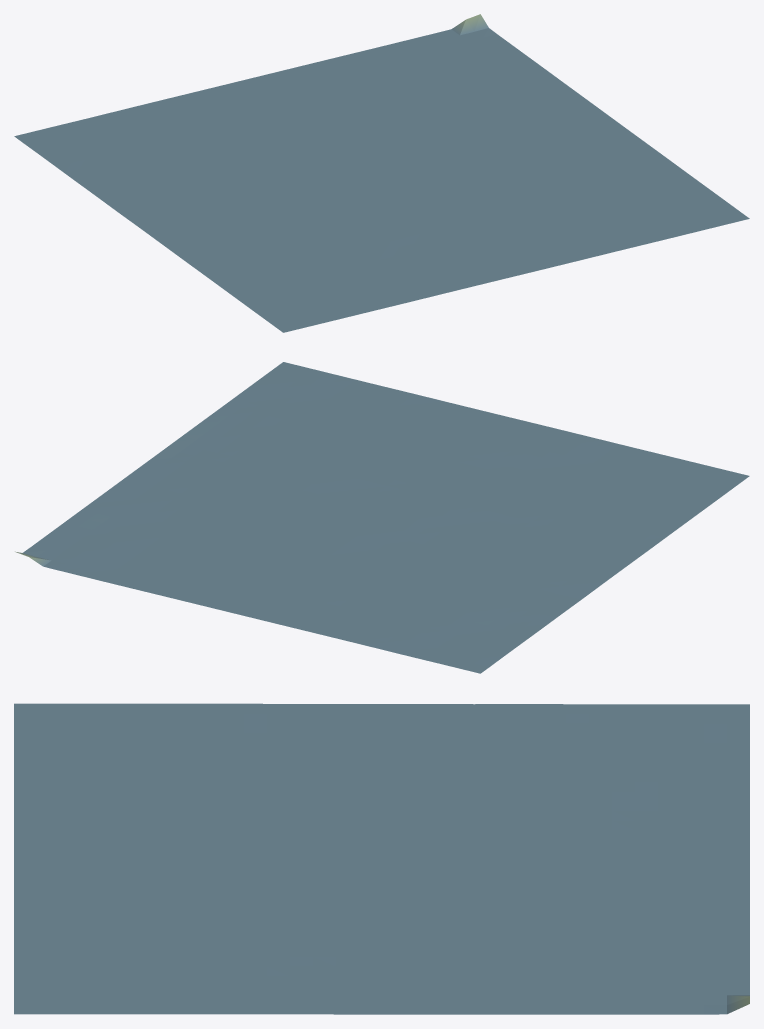
Rendered from tile_8_3.glb.
The picture shows the model from 3 angles, top to bottom: view 1: azimuth 30°, elevation 25°; view 2: azimuth 150°, elevation 25°; view 3: azimuth 270°, elevation 25°; orthographic projection. The views are drawn at different scales.
Parts seen in each view (by area): view 1: terrain; view 2: terrain; view 3: terrain.
Boxes of the visible parts, bbox=[...] form: terrain: bbox=[14, 14, 749, 332]; terrain: bbox=[15, 362, 749, 673]; terrain: bbox=[14, 703, 749, 1014].
Bounding box in the file's own units: 256 × 4.42 × 256.
